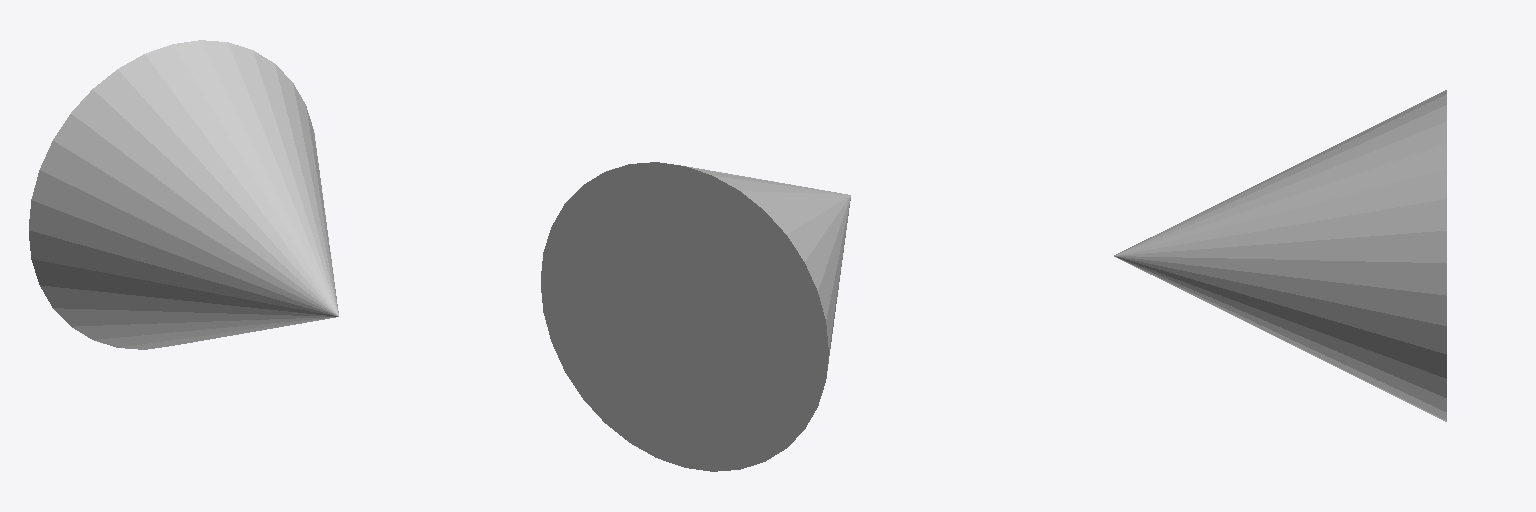
The model's file is yaw link_001.OBJ.
3 renders of one model, left to right at view 1: azimuth 30°, elevation 25°; view 2: azimuth 150°, elevation 25°; view 3: azimuth 270°, elevation 25°, orthographic.
Parts seen in each view (by area): view 1: /ambf/env/psm2/yaw_link_001_yaw_link_Cone.003; view 2: /ambf/env/psm2/yaw_link_001_yaw_link_Cone.003; view 3: /ambf/env/psm2/yaw_link_001_yaw_link_Cone.003.
Part boxes in pixels (x1,y1,x2,y2): /ambf/env/psm2/yaw_link_001_yaw_link_Cone.003: (29,40,338,349); /ambf/env/psm2/yaw_link_001_yaw_link_Cone.003: (541,162,850,471); /ambf/env/psm2/yaw_link_001_yaw_link_Cone.003: (1114,90,1446,421).
Bounding box in the file's own units: 0.02 × 0.02 × 0.02.